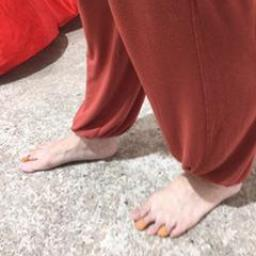Lateral View -Left Foot-: (126, 153, 251, 240)
